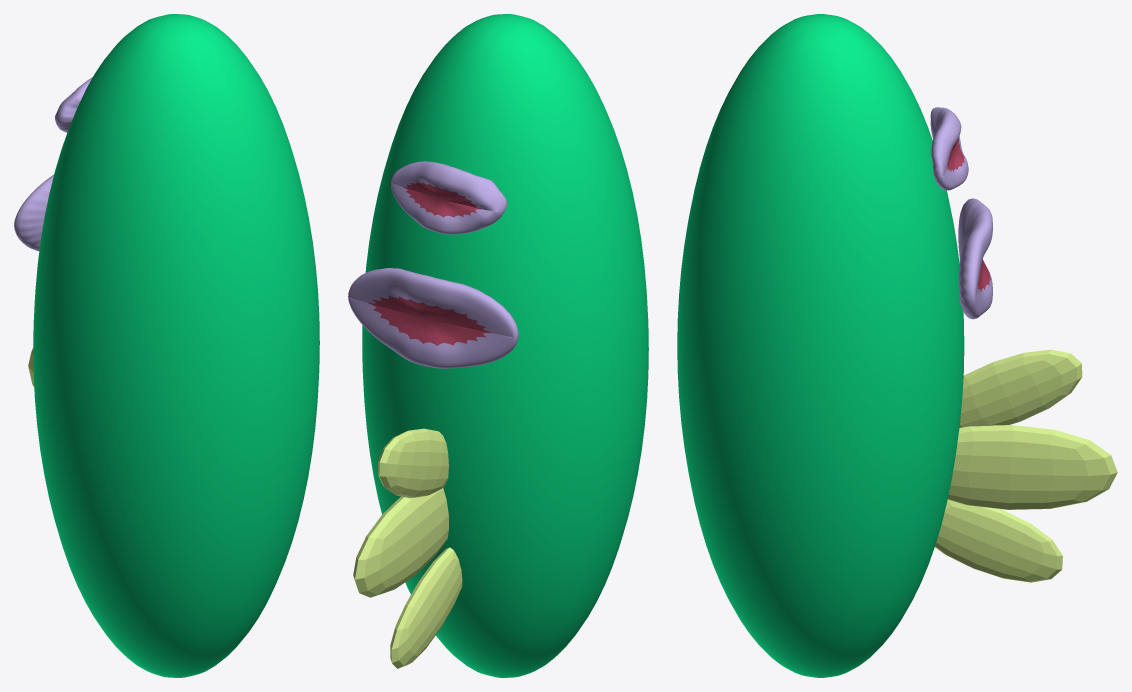
The model's file is bb_plant.fbx.
3 views of the same model, side by side, from view 1: azimuth 30°, elevation 25°; view 2: azimuth 150°, elevation 25°; view 3: azimuth 270°, elevation 25° (orthographic).
Visible parts, largest first — view 1: Sphere; view 2: Sphere; view 3: Sphere.
Boxes of the visible parts, x1,y1,x2,y2 form: Sphere: [14, 14, 319, 677]; Sphere: [348, 14, 648, 677]; Sphere: [677, 14, 1117, 677].
Bounding box in the file's own units: 38.62 × 96.87 × 59.28.
